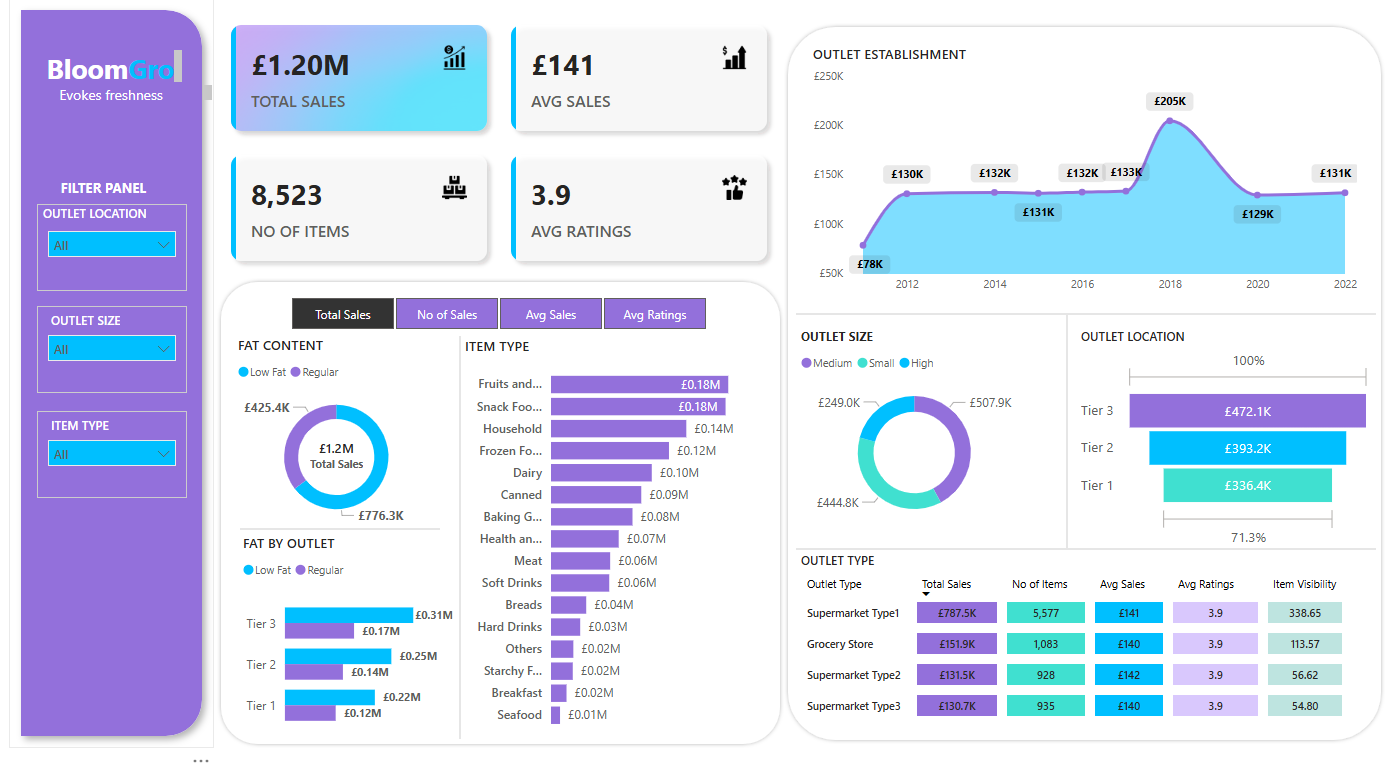

The page's visual inventory and layout, read from the dashboard file:
{"tool":"powerbi","page":{"name":"Page 1","canvas":[1400,800],"ordinal":0},"visuals":[{"type":"shape","box":[10,0,205,750],"z":0},{"type":"textbox","box":[0,47,188,44],"z":1000},{"type":"textbox","box":[13.9,81.5,204.2,26.7],"z":2000},{"type":"cardVisual","fields":{"Data":["BloomGro.Total Sales","BloomGro.Average Sales","BloomGro.Number of Item","BloomGro.Average Ratings"]},"box":[215,10,570,270],"z":3000},{"type":"shape","box":[217.9,279.6,567.2,470.6],"z":4000},{"type":"donutChart","title":"FAT CONTENT","fields":{"Y":["BloomGro.Avg Sales"],"Category":["BloomGro.Item Fat Content"]},"box":[233.8,338.3,207,198],"z":5000},{"type":"slicer","fields":{"Values":["Metric.Metric"]},"box":[266.7,292.5,464.7,45.8],"z":6000},{"type":"cardVisual","fields":{"Data":["BloomGro.Avg Sales"]},"box":[282.6,408,109.5,98.5],"z":7000},{"type":"clusteredBarChart","title":"FAT BY OUTLET","fields":{"Y":["BloomGro.Avg Sales"],"Category":["BloomGro.Outlet Location Type"],"Series":["BloomGro.Item Fat Content"]},"box":[239,536,220,210],"z":8000},{"type":"shape","box":[241.1,495.3,199.5,71.6],"z":9000},{"type":"shape","box":[354.2,338.4,213.7,402.1],"z":10000},{"type":"clusteredBarChart","title":"ITEM TYPE","fields":{"Y":["BloomGro.Avg Sales"],"Category":["BloomGro.Item Type"]},"box":[461,339,311,401],"z":11000},{"type":"shape","box":[785,25,601,721],"z":12000},{"type":"lineChart","title":"OUTLET ESTABLISHMENT","fields":{"Y":["BloomGro.Avg Sales"],"Category":["BloomGro.Outlet Establishment Year"]},"box":[809,47,554,257],"z":13000},{"type":"shape","box":[797,280,580,72],"z":14000},{"type":"donutChart","title":"OUTLET SIZE","fields":{"Y":["BloomGro.Avg Sales"],"Category":["BloomGro.Outlet Size"]},"box":[797,330,237,206],"z":15000},{"type":"shape","box":[961,316,214,236],"z":16000},{"type":"funnel","title":"OUTLET LOCATION","fields":{"Y":["BloomGro.Avg Sales"],"Category":["BloomGro.Outlet Location Type"]},"box":[1077,330,300,224],"z":17000},{"type":"tableEx","title":"OUTLET TYPE","fields":{"Values":["BloomGro.Outlet Type","BloomGro.Total Sales","BloomGro.No of Sales","BloomGro.Avg Sales","BloomGro.Avg Ratings","Sum(BloomGro.Item Visibility)"]},"box":[797,554,580,179],"z":18000},{"type":"shape","box":[797,515,580,72],"z":19000},{"type":"slicer","title":"OUTLET LOCATION","fields":{"Values":["BloomGro.Outlet Location Type"]},"box":[38,206,150,87],"z":20000},{"type":"slicer","title":"Outlet Location","fields":{"Values":["BloomGro.Outlet Size"]},"box":[38,308,150,87],"z":21000},{"type":"slicer","title":"Outlet Location","fields":{"Values":["BloomGro.Item Type"]},"box":[38,413,150,87],"z":22000},{"type":"textbox","box":[10,176,189,30],"z":22001}]}

Visuals, with their boxes on the page's 1400x800 design canvas (x1, y1, x2, y2). These are canvas units, not pixel positions in the 1398x774 screenshot, which may show the page scaled, cropped or inside an application window:
shape: BBox(10, 0, 215, 750)
textbox: BBox(0, 47, 188, 91)
textbox: BBox(14, 82, 218, 108)
cardVisual - BloomGro.Total Sales x BloomGro.Average Sales: BBox(215, 10, 785, 280)
shape: BBox(218, 280, 785, 750)
"FAT CONTENT" donutChart: BBox(234, 338, 441, 536)
slicer - Metric.Metric: BBox(267, 292, 731, 338)
cardVisual - BloomGro.Avg Sales: BBox(283, 408, 392, 506)
"FAT BY OUTLET" clusteredBarChart: BBox(239, 536, 459, 746)
shape: BBox(241, 495, 441, 567)
shape: BBox(354, 338, 568, 740)
"ITEM TYPE" clusteredBarChart: BBox(461, 339, 772, 740)
shape: BBox(785, 25, 1386, 746)
"OUTLET ESTABLISHMENT" lineChart: BBox(809, 47, 1363, 304)
shape: BBox(797, 280, 1377, 352)
"OUTLET SIZE" donutChart: BBox(797, 330, 1034, 536)
shape: BBox(961, 316, 1175, 552)
"OUTLET LOCATION" funnel: BBox(1077, 330, 1377, 554)
"OUTLET TYPE" tableEx: BBox(797, 554, 1377, 733)
shape: BBox(797, 515, 1377, 587)
"OUTLET LOCATION" slicer: BBox(38, 206, 188, 293)
"Outlet Location" slicer: BBox(38, 308, 188, 395)
"Outlet Location" slicer: BBox(38, 413, 188, 500)
textbox: BBox(10, 176, 199, 206)
